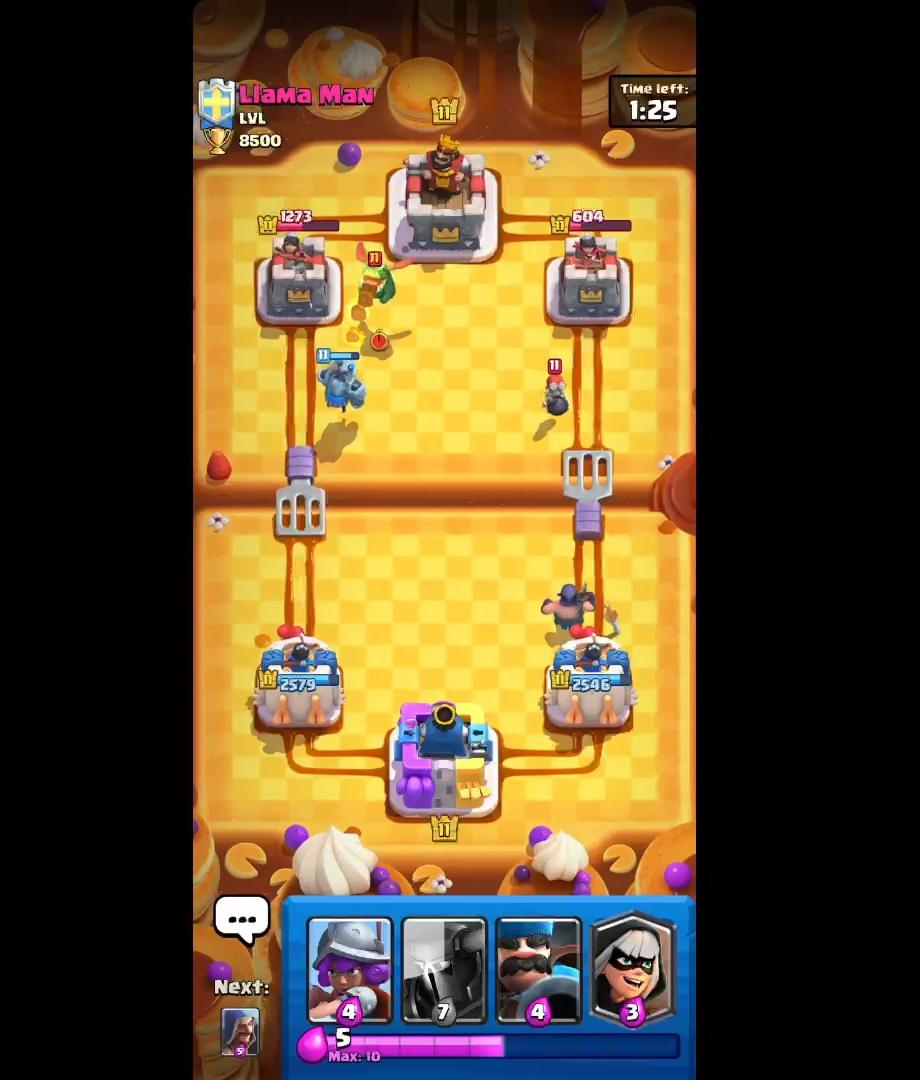Baby Dragon: (349, 237, 414, 315)
Bomber: (539, 355, 573, 421)
